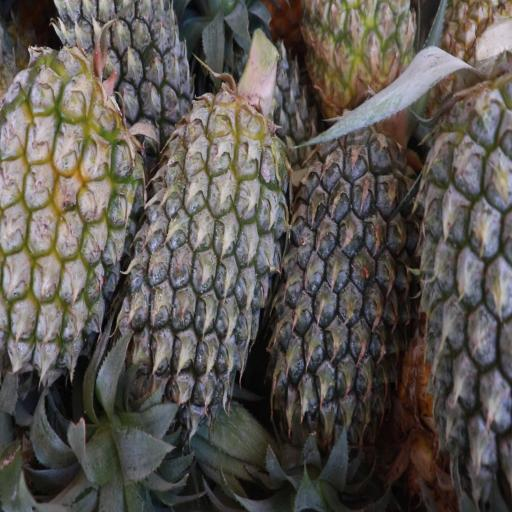------------------------------: (0, 64, 138, 365), (309, 0, 417, 120)
